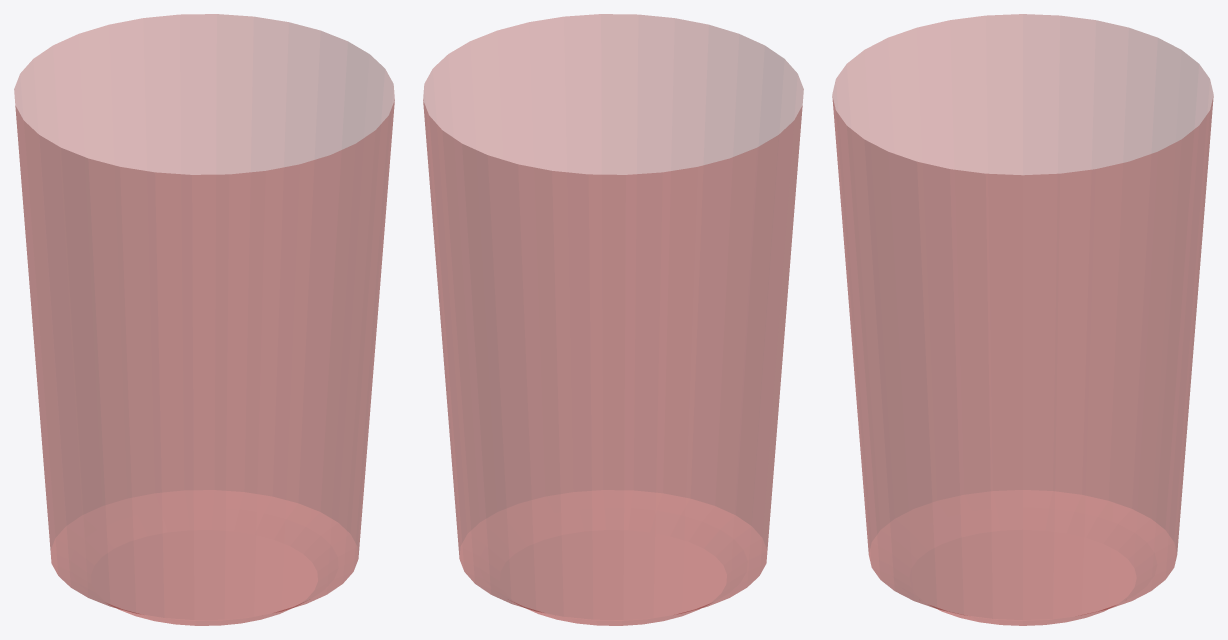
The model's file is vaso3.fbx.
3 views of the same model, side by side, from view 1: azimuth 30°, elevation 25°; view 2: azimuth 150°, elevation 25°; view 3: azimuth 270°, elevation 25° (orthographic).
Visible parts, largest first — view 1: Cylinder; view 2: Cylinder; view 3: Cylinder.
Part boxes in pixels (x1,y1,x2,y2): Cylinder: (14, 14, 394, 625); Cylinder: (423, 14, 803, 625); Cylinder: (832, 14, 1213, 625).
Size of the model in its own units: 477 by 666 by 477.
